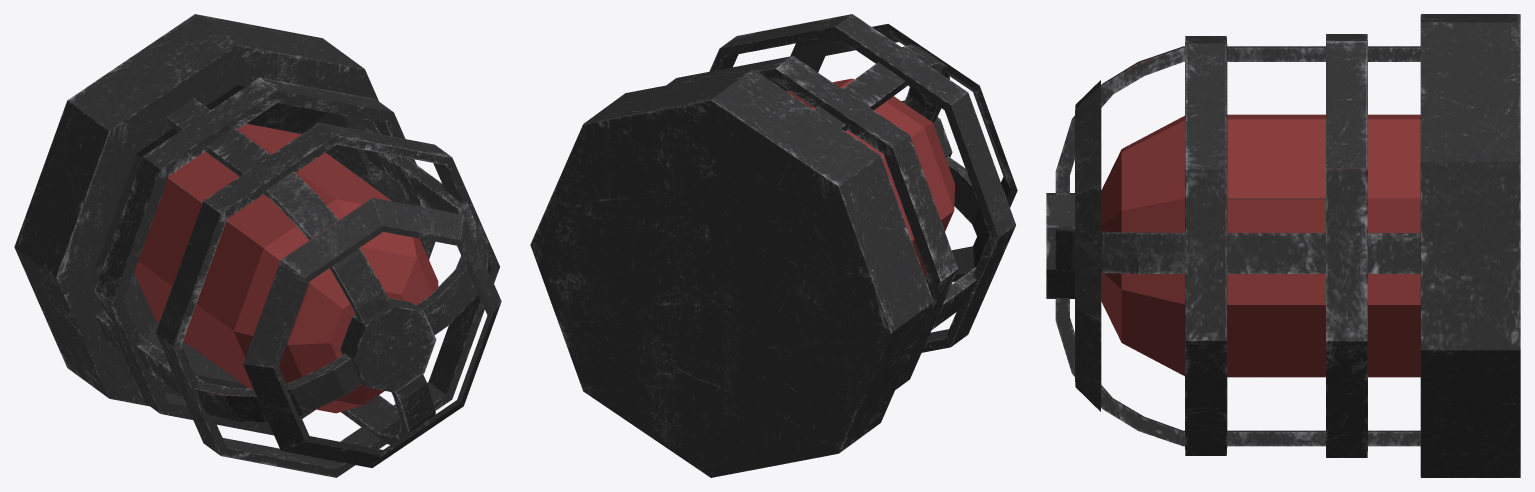
File: AlarmLamp.gltf
The picture shows the model from 3 angles, left to right: view 1: azimuth 30°, elevation 25°; view 2: azimuth 150°, elevation 25°; view 3: azimuth 270°, elevation 25°; orthographic projection. The views are drawn at different scales.
Visible parts, largest first — view 1: Cylinder.021; view 2: Cylinder.021; view 3: Cylinder.021.
Boxes of the visible parts, box(x1,y1,x2,y2) form: Cylinder.021: box(14, 14, 501, 477); Cylinder.021: box(530, 14, 1017, 477); Cylinder.021: box(1046, 14, 1520, 477).
Bounding box in the file's own units: 1.41 × 1.41 × 1.35.
1 material, 1 textured.
